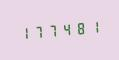eight: (74, 18, 87, 37)
four: (60, 19, 73, 38)
one: (17, 23, 30, 42), (88, 17, 101, 36)
seven: (31, 22, 44, 41), (46, 21, 59, 40)
